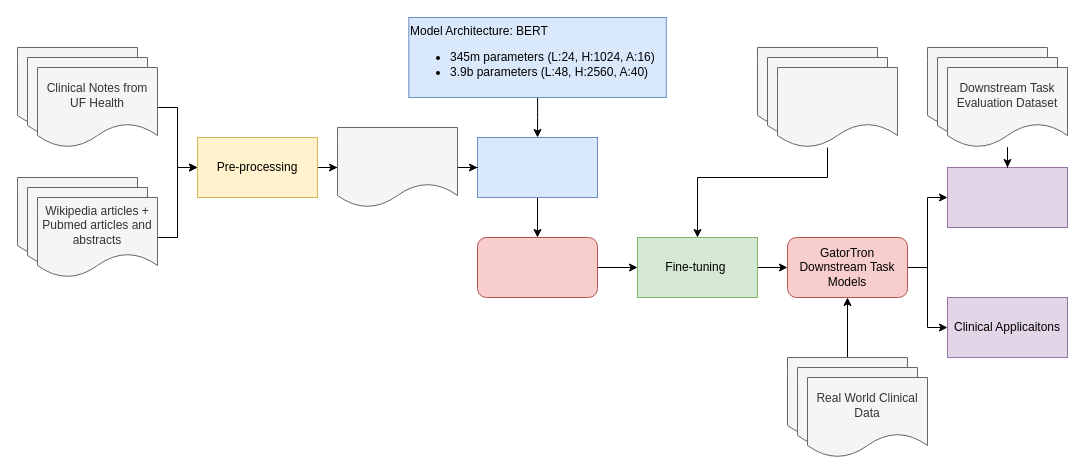
The diagram is 1085 pixels wide and 475 high, and some of its shapes have lost their labels. The shapes that lost their labels are listed below. From the top down, each one's centre as x and y in pixels, then its label:
At pixel 837 107: "Downstream Task Training Dataset".
At pixel 397 167: "Pre-training Datasets".
At pixel 537 167: "Pre-training with Megatron-LM on UF HPG-AI Cluster".
At pixel 1007 197: "Evaluation".
At pixel 537 267: "GatorTron Clinical Language Models".
